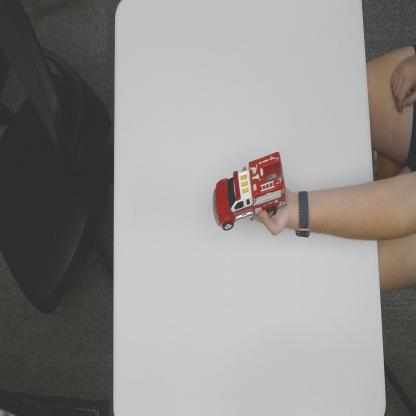Arm: (315, 173, 416, 243)
Firetruck: (212, 150, 286, 231)
